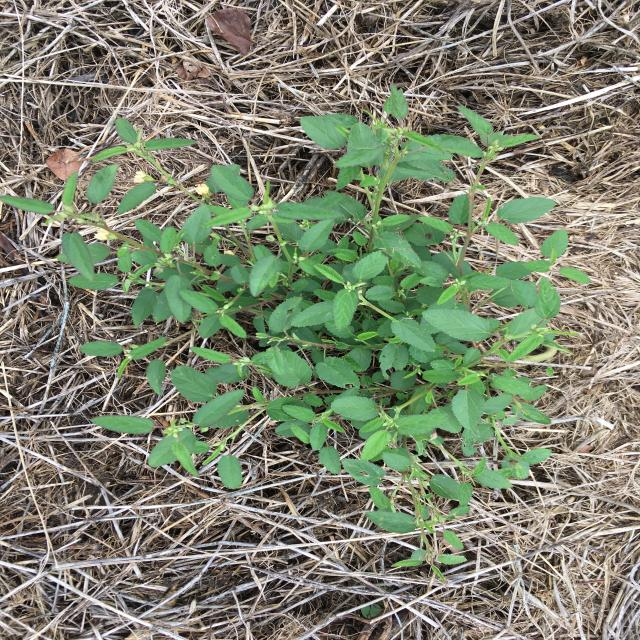PricklySida: (1, 85, 592, 578)
